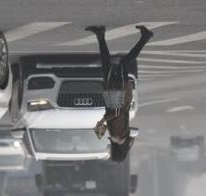person: (84, 23, 154, 161)
